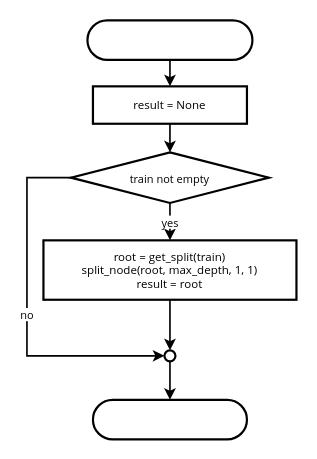
This 317x459 diagram has some shape labels left out. Here are the shapes that lost their labels. From the top down, the centre of each, then its label:
point 169,40: build_tree(train)
point 169,419: return result
